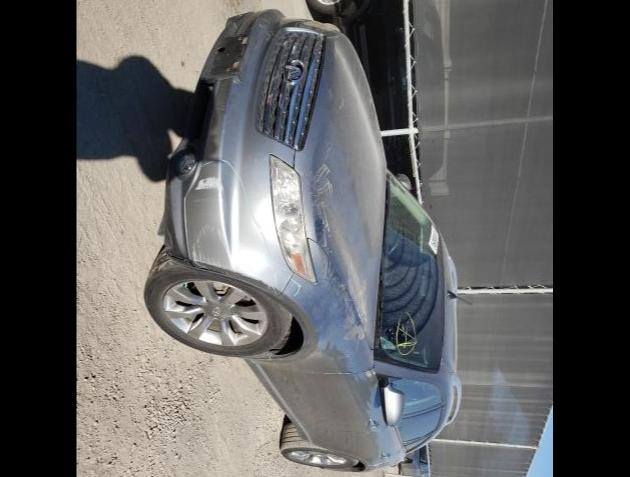Broken part: (163, 246, 240, 278)
Dent: (312, 194, 332, 250)
Missing part: (204, 36, 248, 74)
Paint chip: (343, 322, 366, 340), (342, 310, 356, 328)
Scratch: (200, 156, 272, 260), (193, 224, 224, 268), (196, 176, 226, 190), (314, 164, 332, 184), (318, 178, 334, 196), (290, 278, 302, 296), (258, 22, 270, 40), (322, 146, 332, 166), (270, 282, 278, 294), (338, 98, 344, 110)
